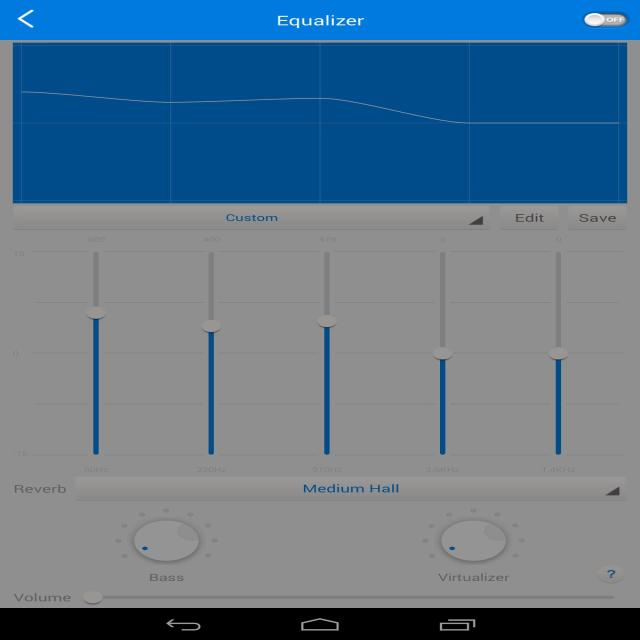button: (9, 205, 493, 230), (76, 479, 626, 500), (79, 588, 629, 608), (428, 242, 459, 460), (81, 245, 112, 461), (313, 244, 342, 459), (198, 245, 222, 460), (550, 245, 572, 458), (431, 513, 516, 565), (125, 516, 207, 564), (502, 204, 560, 229), (572, 206, 626, 229), (577, 9, 627, 30), (13, 5, 40, 37), (595, 560, 627, 584)
heading: (274, 10, 366, 32)
image: (12, 43, 623, 203)
label: (435, 571, 512, 586), (10, 592, 76, 604), (10, 484, 68, 497), (78, 462, 118, 476), (148, 572, 191, 585), (193, 461, 230, 476), (307, 462, 346, 476), (545, 462, 578, 477), (423, 462, 464, 474)
